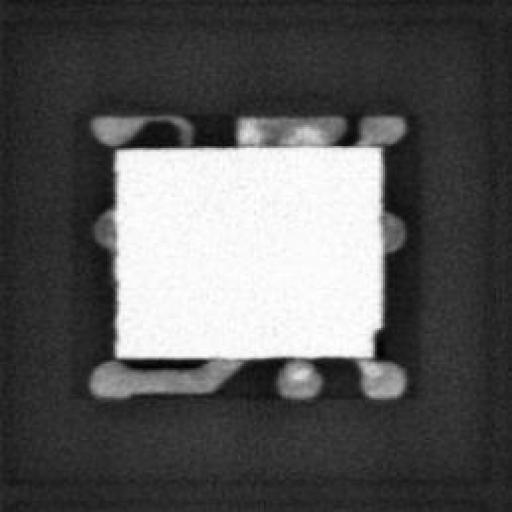DIE_BROKEN: (369, 324, 385, 360)
